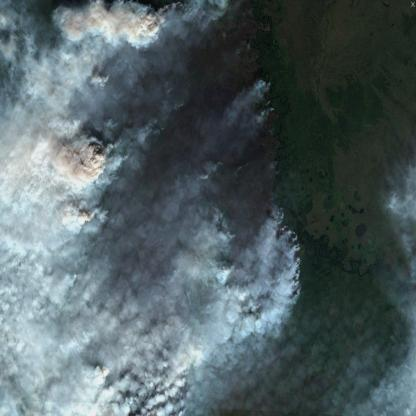fire: (197, 146, 239, 297), (268, 158, 308, 309), (253, 62, 277, 125), (150, 0, 194, 28), (112, 130, 128, 172)
